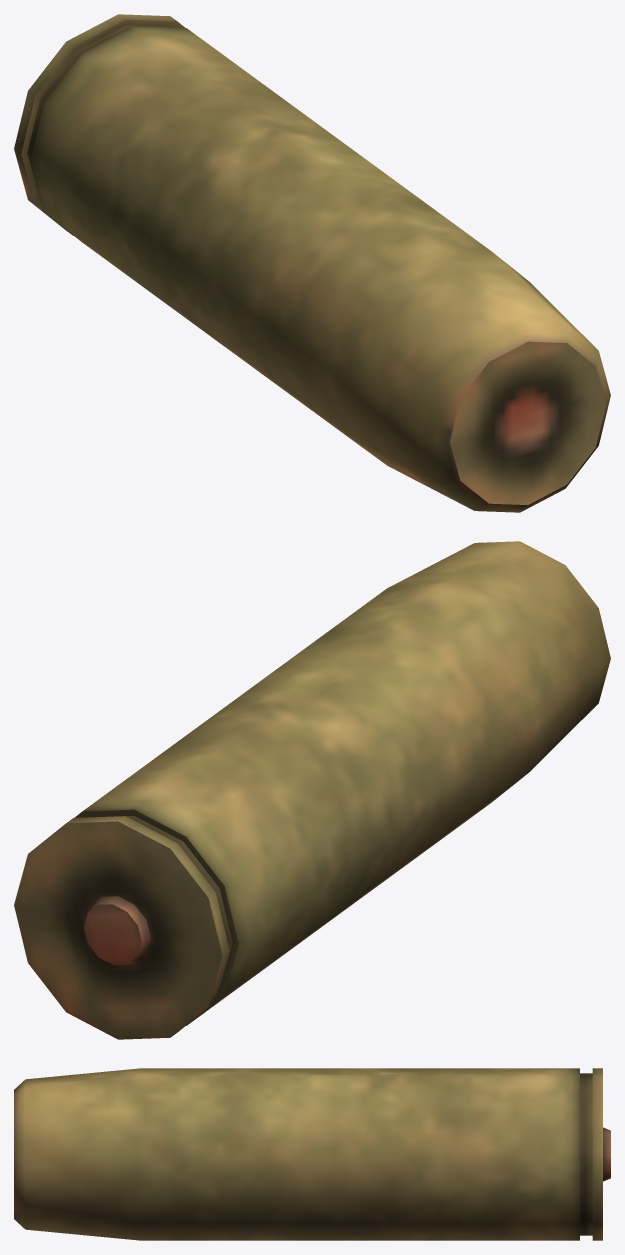
File: AWPshell.fbx
3 views of the same model, one above another, from view 1: azimuth 30°, elevation 25°; view 2: azimuth 150°, elevation 25°; view 3: azimuth 270°, elevation 25° (orthographic). The views are drawn at different scales.
Parts seen in each view (by area): view 1: bullet; view 2: bullet; view 3: bullet.
Part boxes in pixels (x1,y1,x2,y2): bullet: (14, 14, 610, 512); bullet: (14, 541, 610, 1039); bullet: (14, 1068, 610, 1240).
Bounding box in the file's own units: 2.27 × 2.27 × 7.81.
